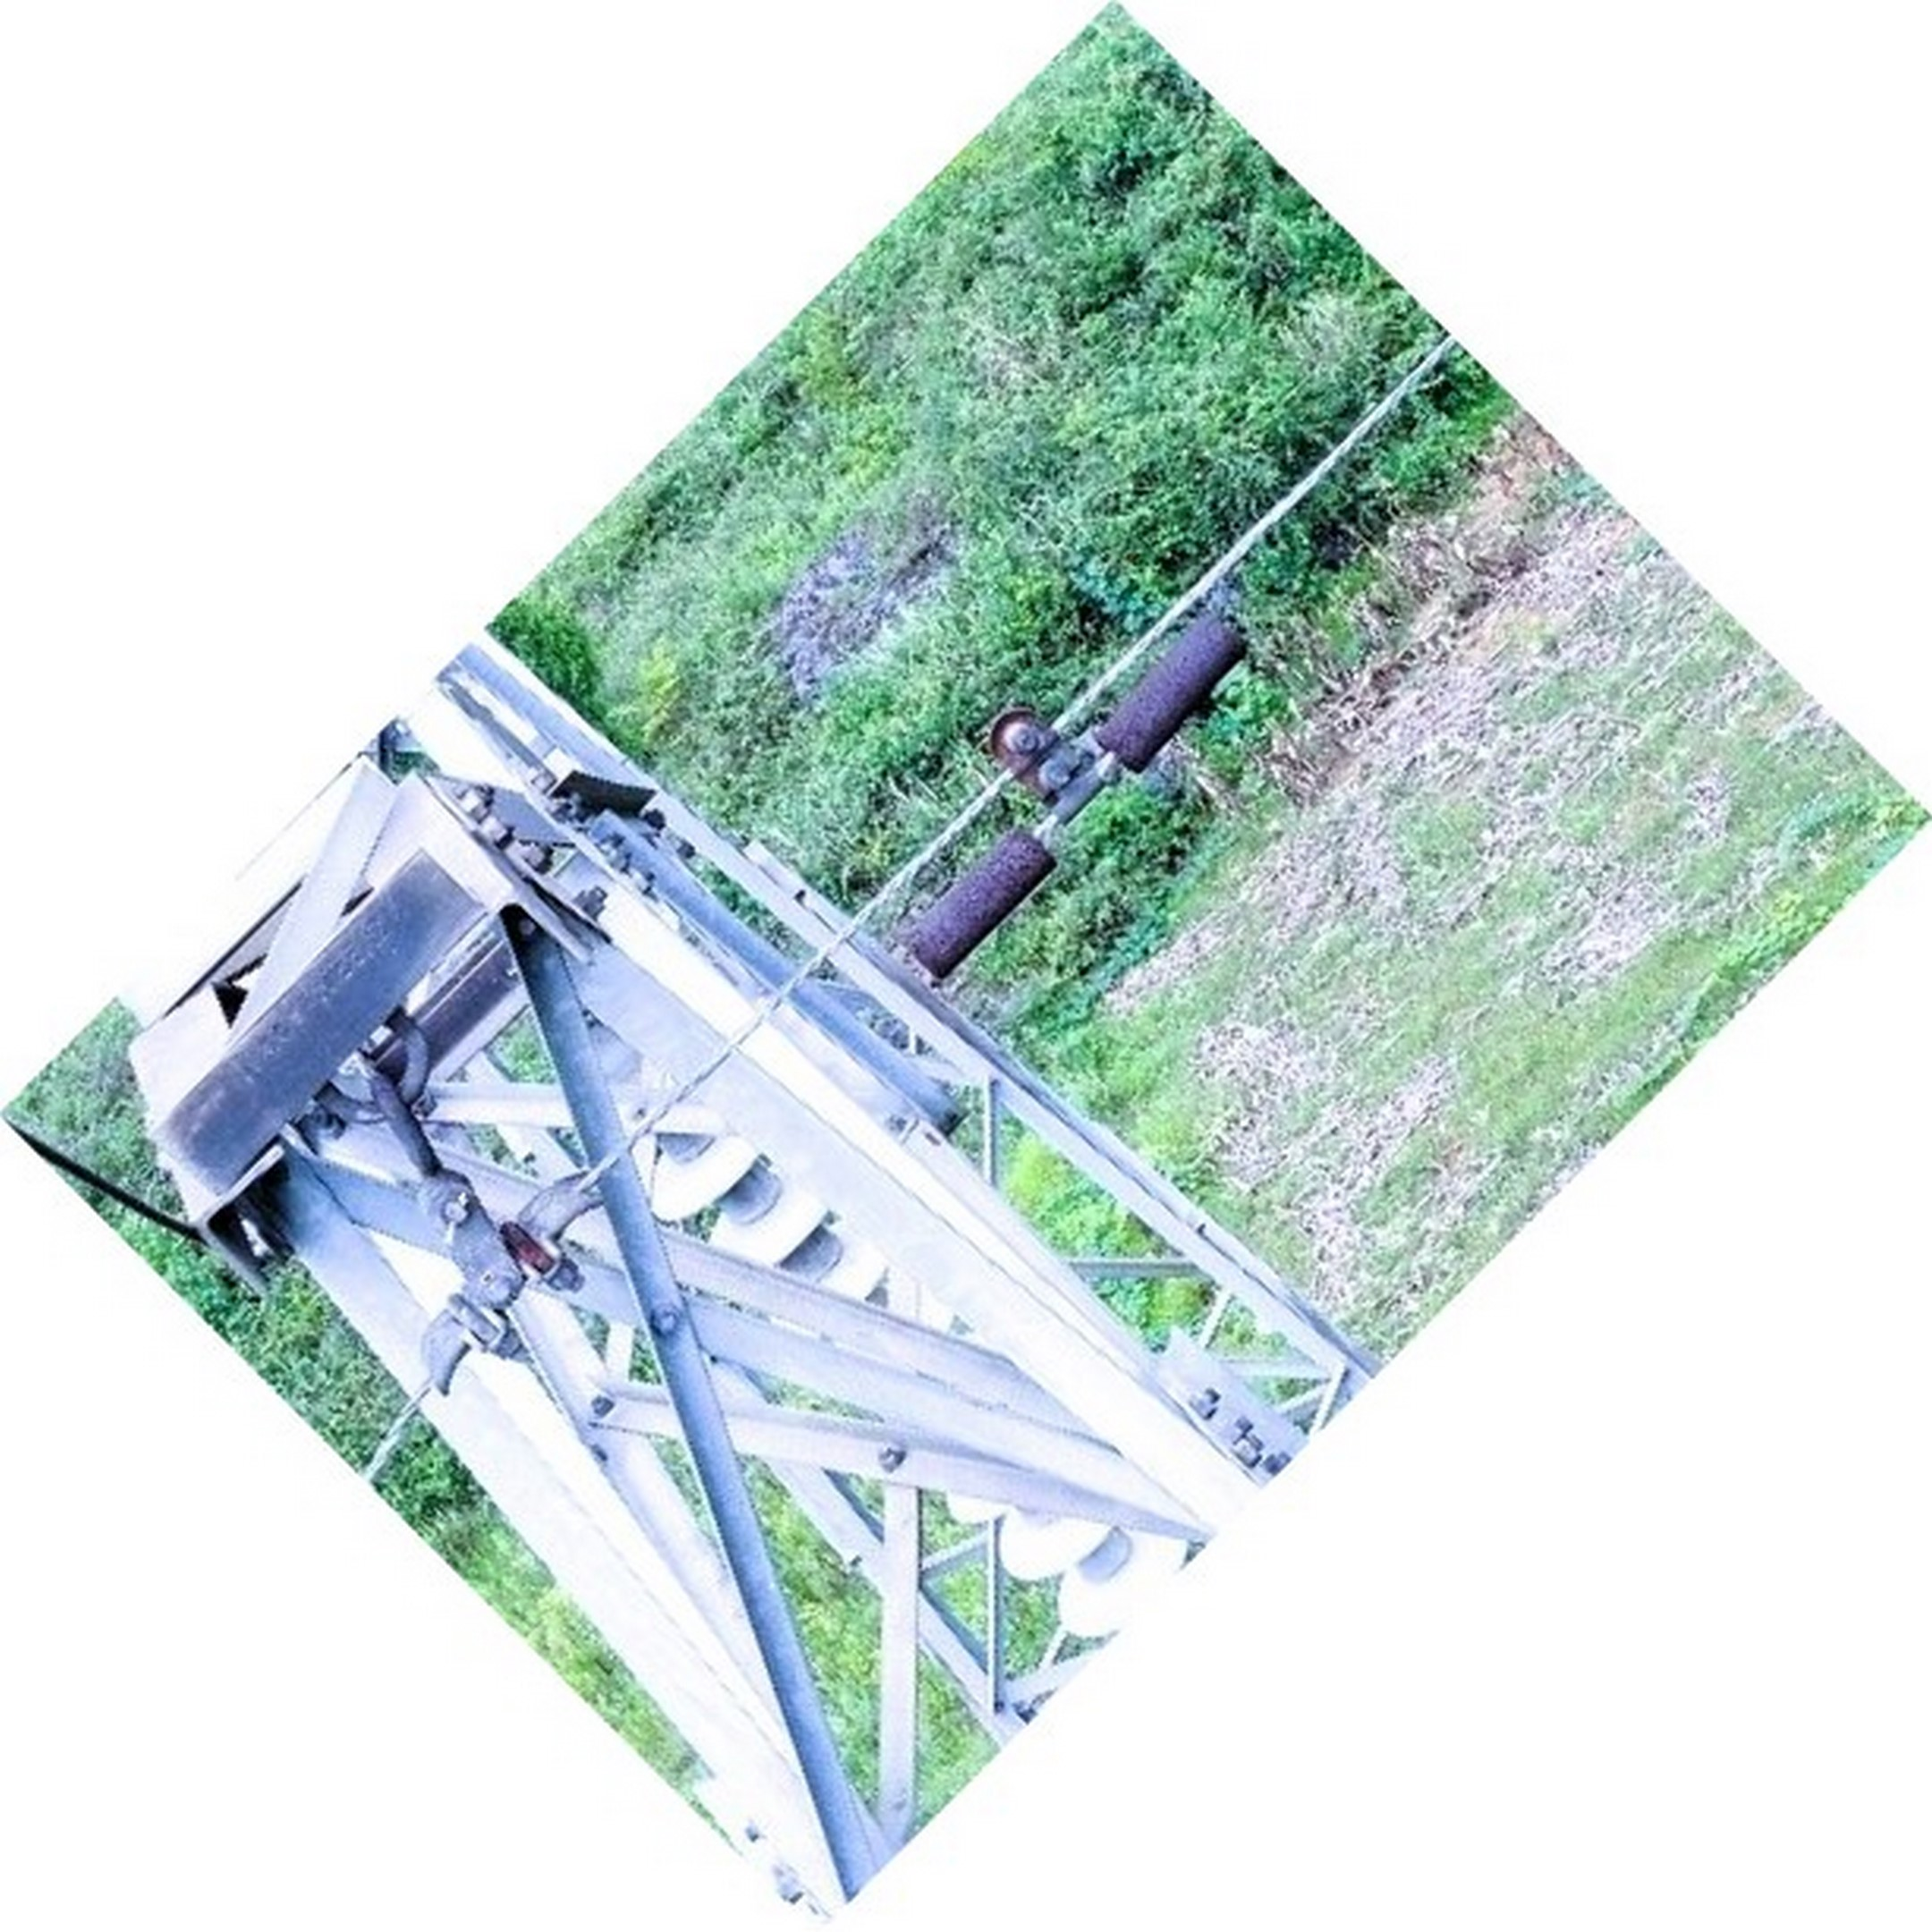Shockproof hammer: (878, 575, 1276, 996)
